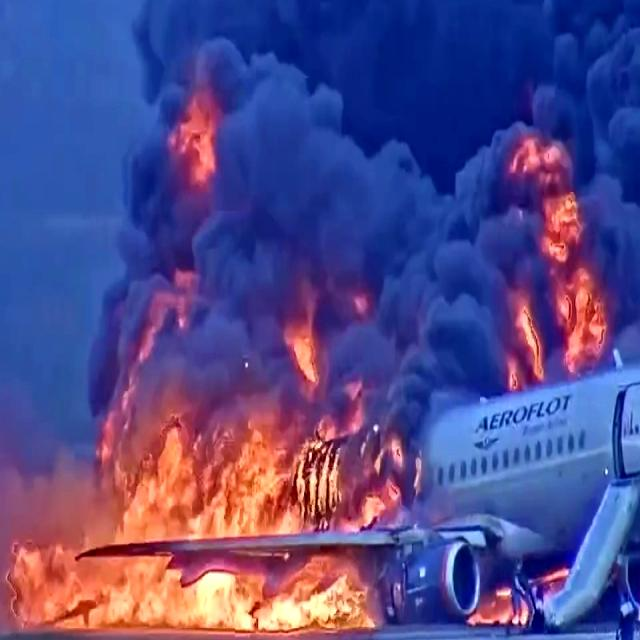fire: (23, 543, 372, 640), (124, 418, 388, 534), (509, 146, 607, 380)
smoke: (228, 0, 476, 424), (150, 0, 544, 104)
